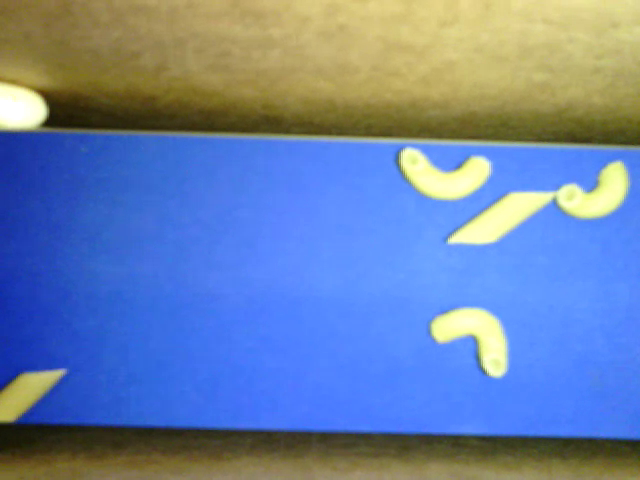elbow: (429, 306, 510, 379), (395, 145, 493, 202), (555, 161, 631, 221)
penne: (446, 191, 555, 244), (1, 368, 66, 421)
